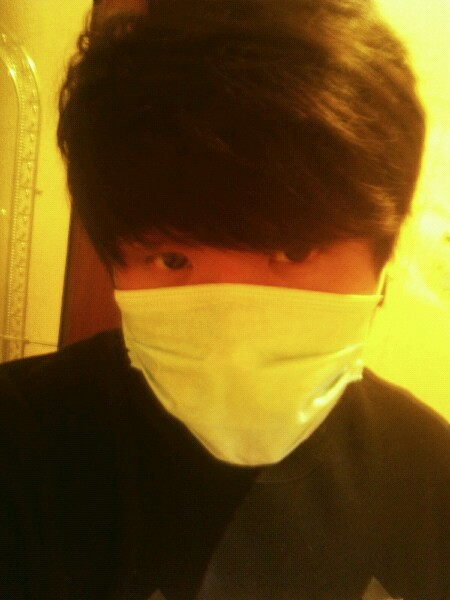face_mask: (108, 152, 373, 466)
